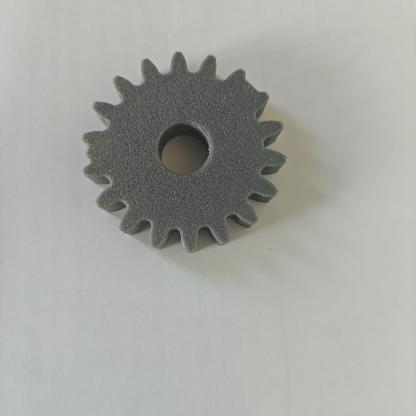defect: (66, 126, 131, 193), (218, 64, 279, 126)
gear: (61, 41, 317, 258)
